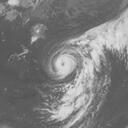cyclone: (43, 39, 108, 127)
